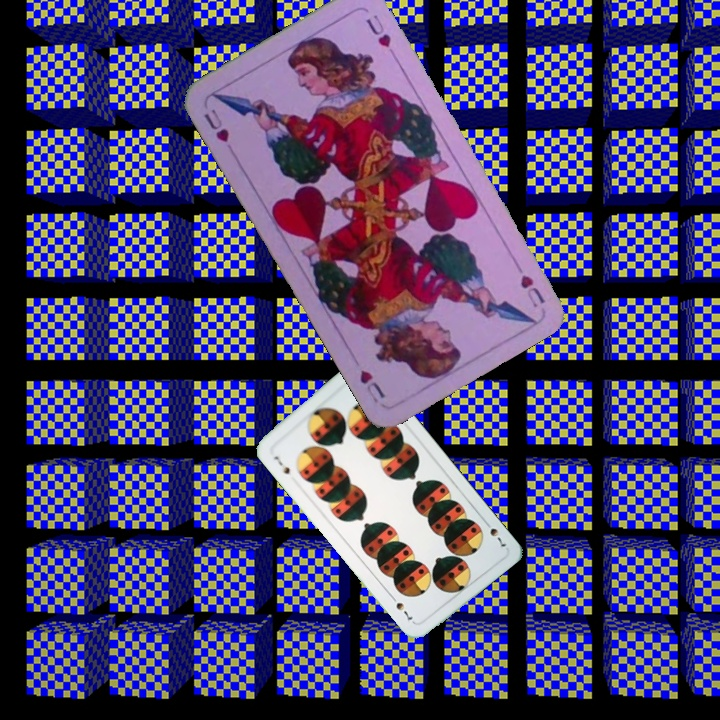HU: (509, 256, 548, 311), (199, 105, 232, 145)
S7: (480, 516, 509, 549), (270, 452, 293, 477)
